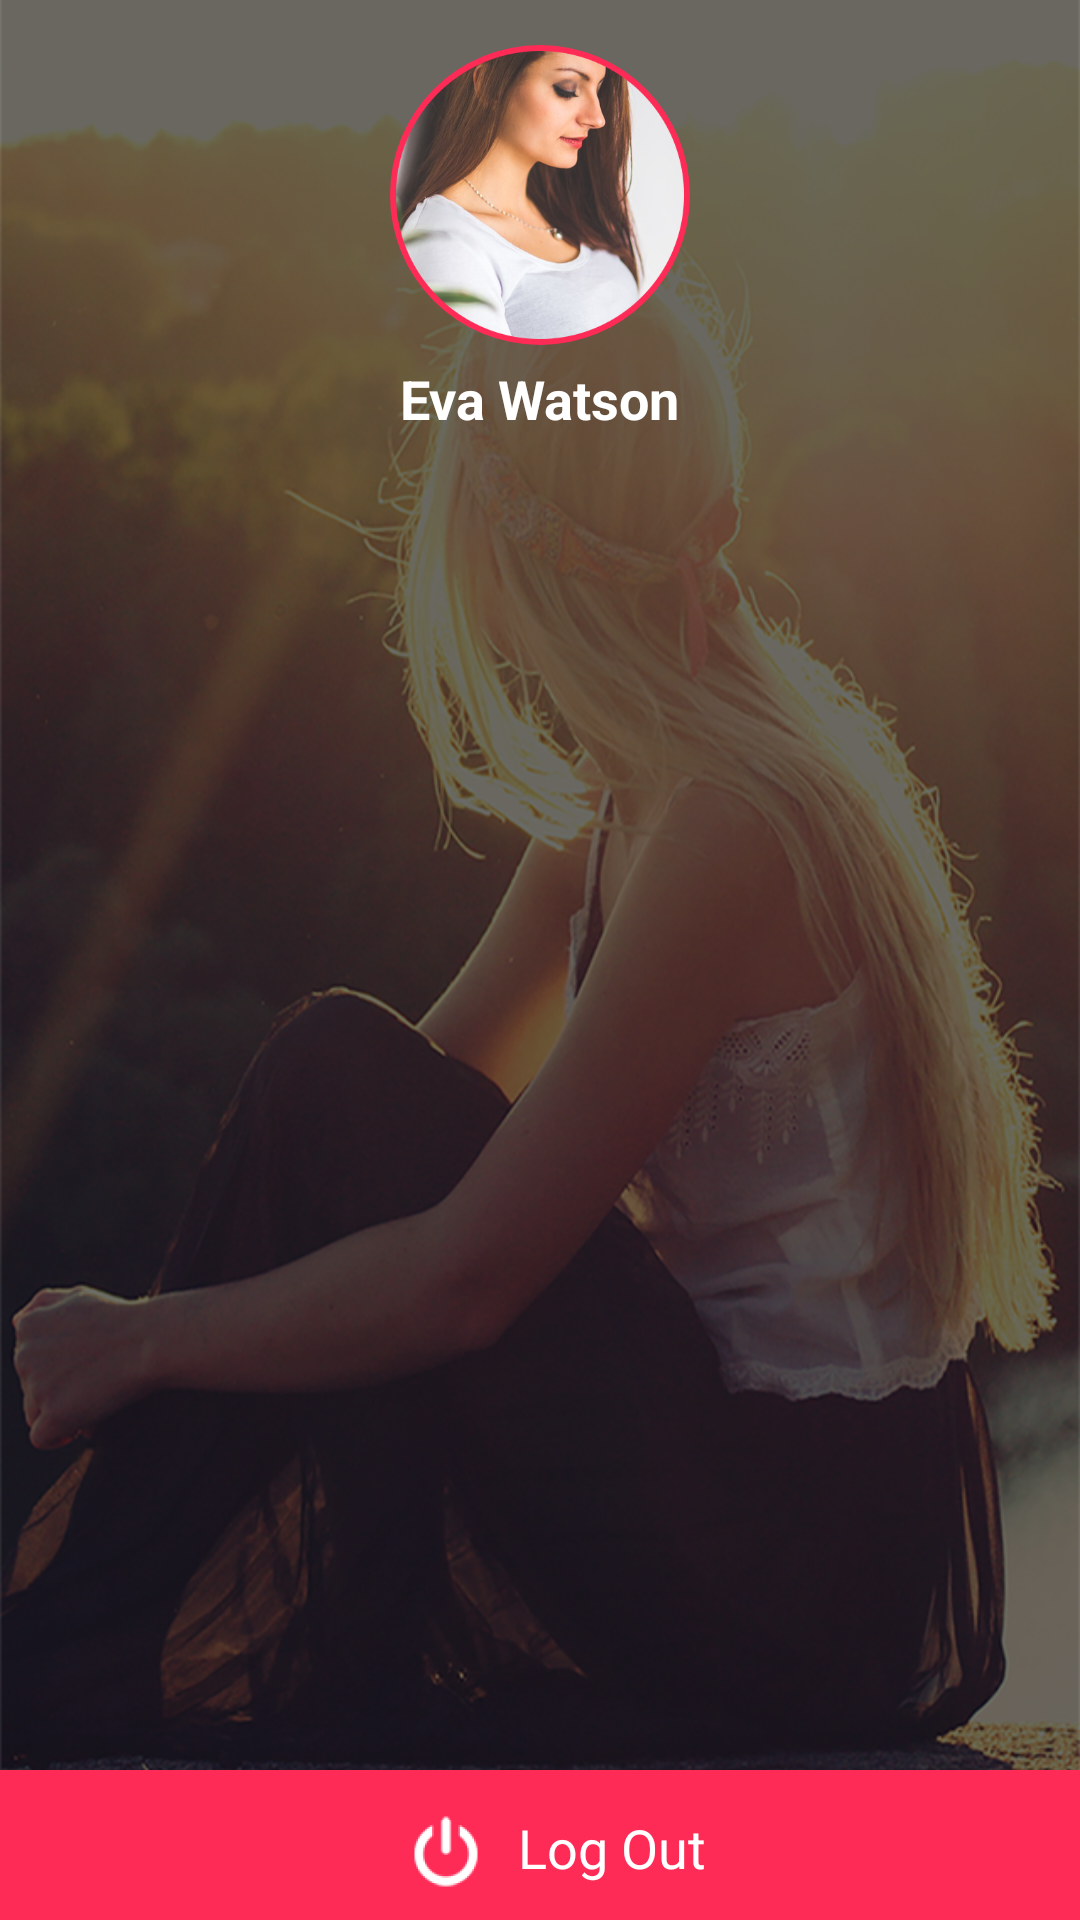

Icons on this 1080 × 1920 Android screen, each with its box as (x1, y1, x2, y2):
profile pic: (390, 45, 690, 345)
